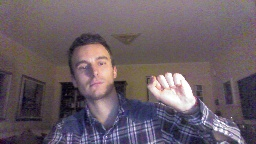Pugno: (145, 71, 199, 112)
